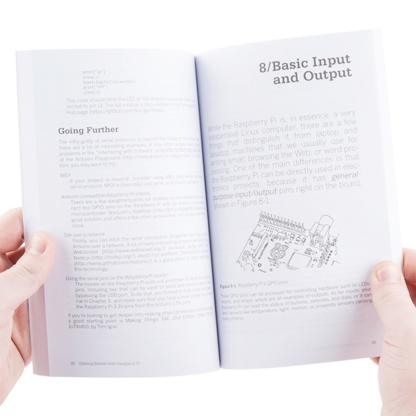book: (16, 27, 383, 374)
